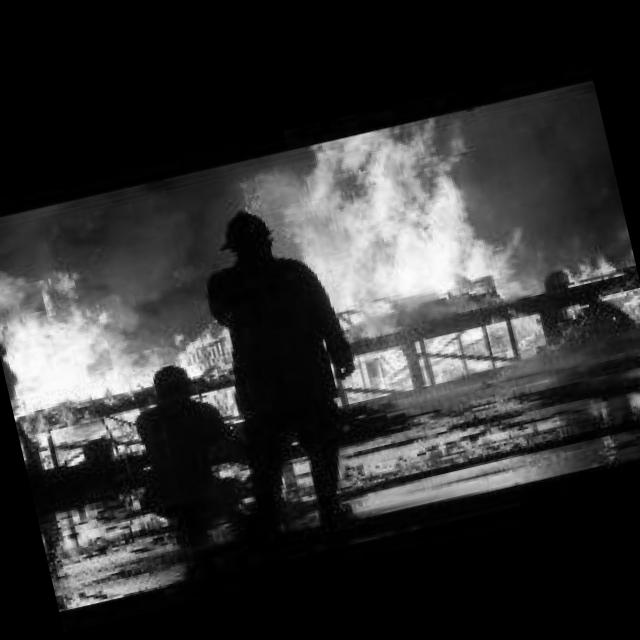fire: (277, 82, 640, 411), (0, 210, 216, 413)
